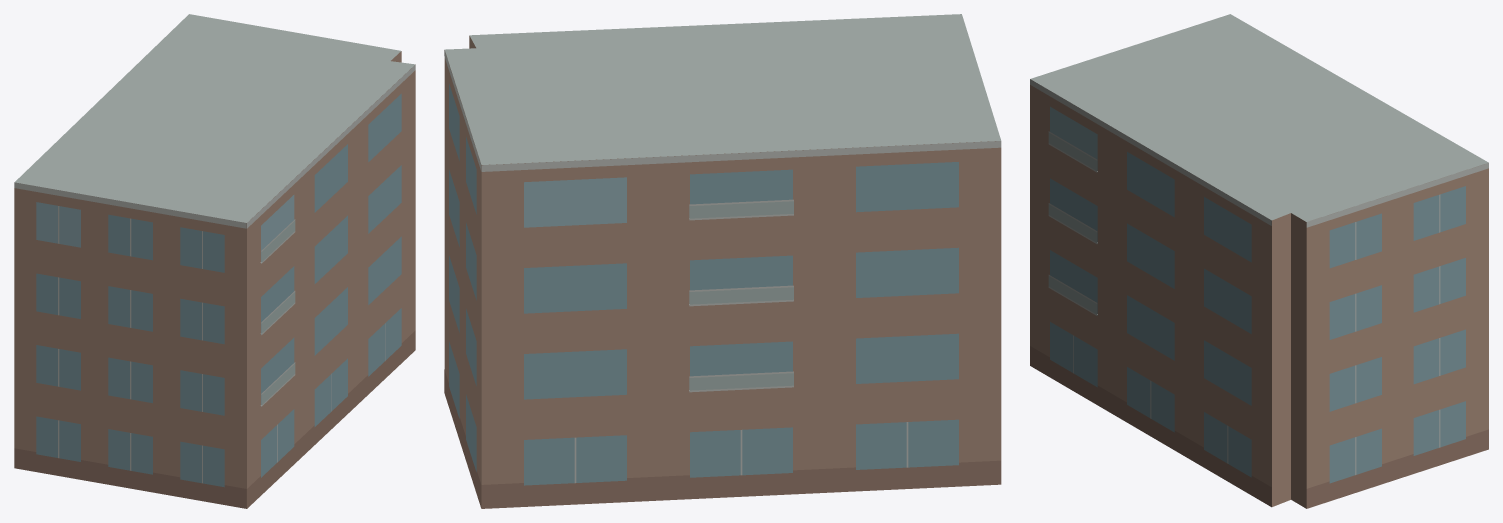
The model's file is survey-upis-33010173.glb.
The picture shows the model from 3 angles, left to right: view 1: azimuth 30°, elevation 25°; view 2: azimuth 150°, elevation 25°; view 3: azimuth 270°, elevation 25°; orthographic projection. The views are drawn at different scales.
Parts seen in each view (by area): view 1: survey-upis-33010173.tmp; view 2: survey-upis-33010173.tmp; view 3: survey-upis-33010173.tmp.
Part boxes in pixels (left/top/right/bottom): survey-upis-33010173.tmp: left=14, top=14, right=415, bottom=508; survey-upis-33010173.tmp: left=444, top=14, right=1001, bottom=508; survey-upis-33010173.tmp: left=1030, top=14, right=1488, bottom=508.
Size of the model in its own units: 18.99 by 12.2 by 17.69.
